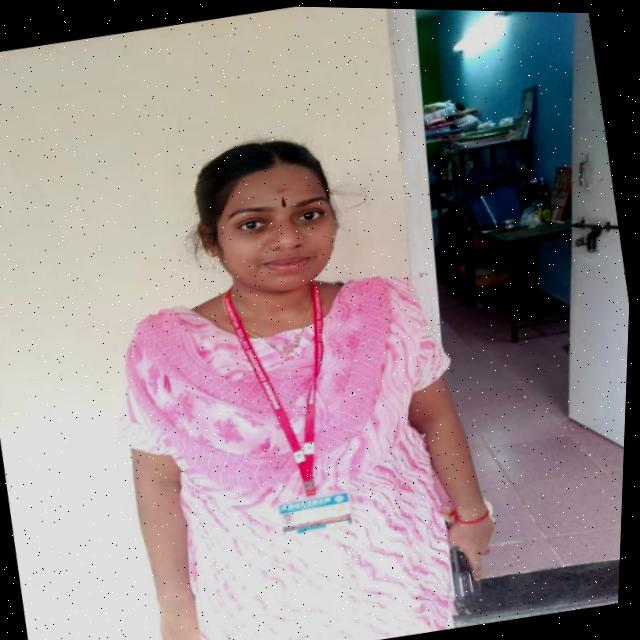id_card: (212, 276, 385, 554)
